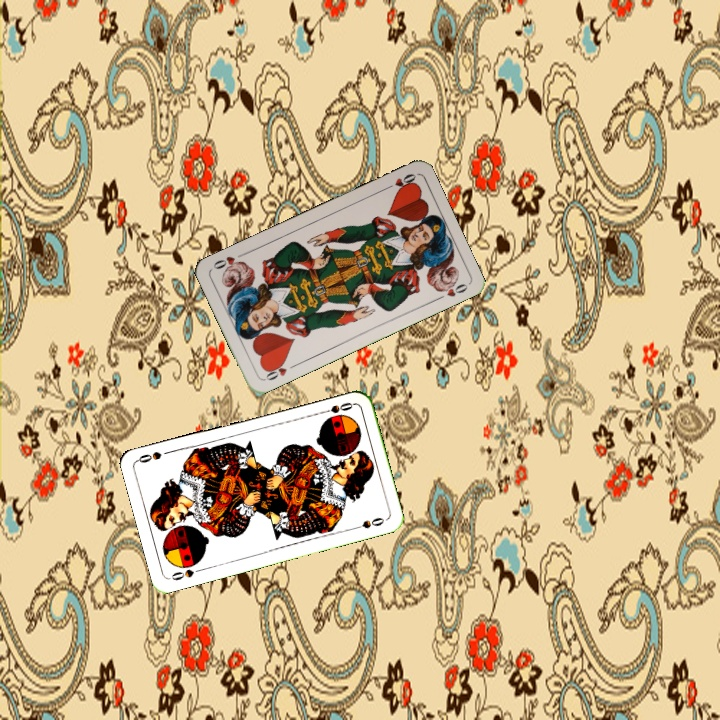HO: (260, 357, 299, 383), (380, 169, 419, 193)
SO: (316, 398, 356, 416), (166, 565, 206, 583)
